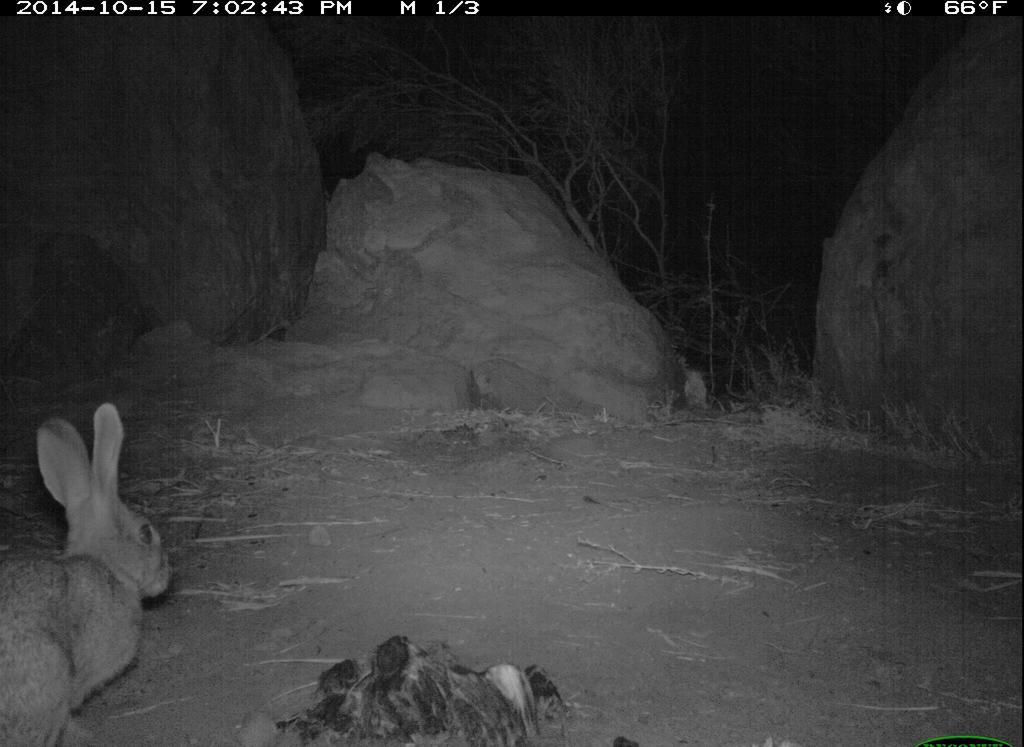rabbit: (1, 390, 195, 745)
